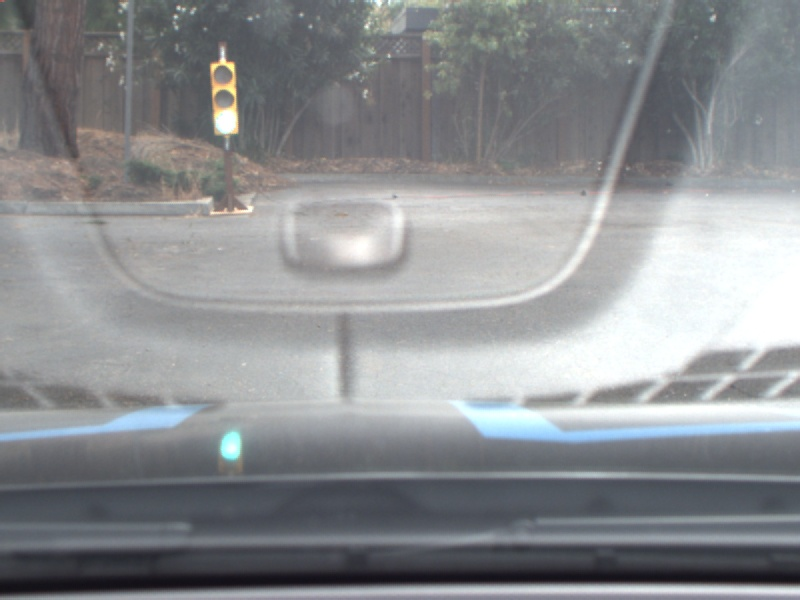green: (209, 63, 239, 135)
